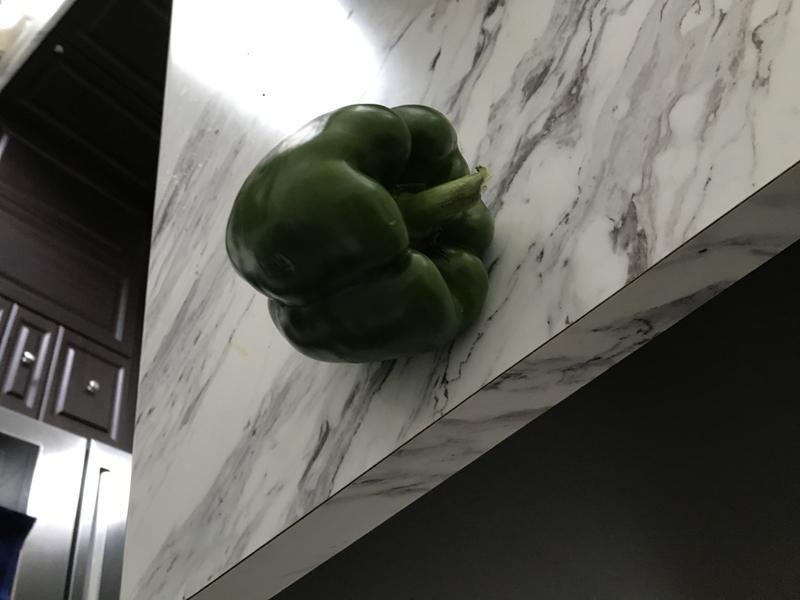green_pepper: (219, 92, 506, 373)
